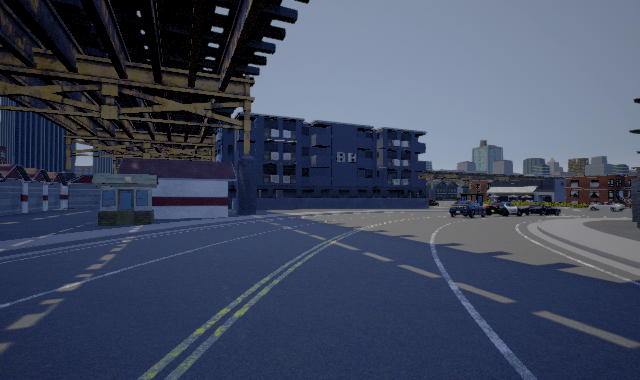vehicle: (449, 201, 486, 219), (486, 202, 522, 219), (523, 202, 561, 218), (588, 202, 626, 212)
